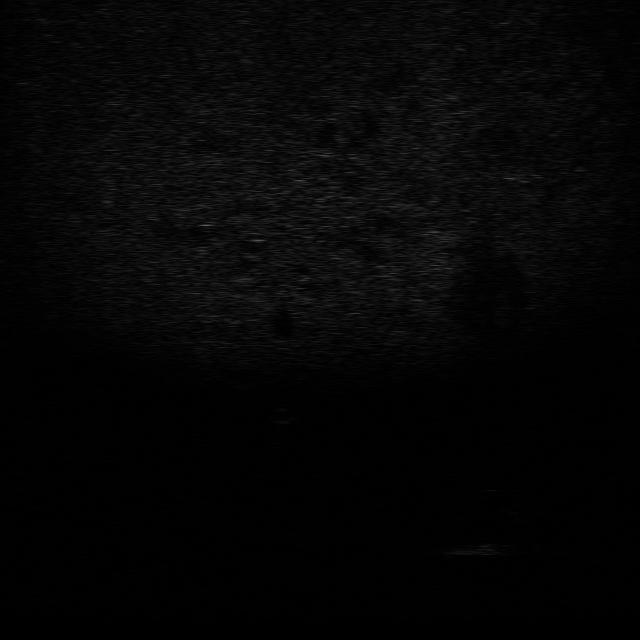ball: (264, 403, 300, 426)
metal bucket: (442, 537, 522, 560)
tyre: (480, 483, 539, 520)
